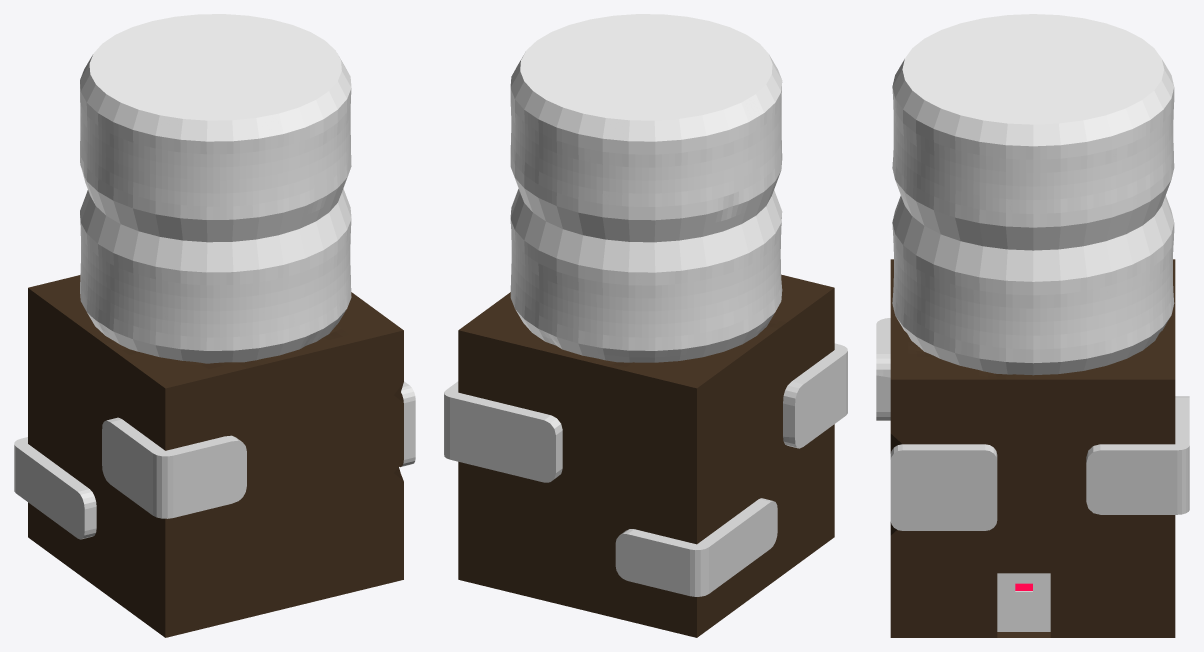
The model's file is Bulding3.fbx.
The picture shows the model from 3 angles, left to right: view 1: azimuth 30°, elevation 25°; view 2: azimuth 150°, elevation 25°; view 3: azimuth 270°, elevation 25°; orthographic projection. The views are drawn at different scales.
Parts seen in each view (by area): view 1: Building 3; view 2: Building 3; view 3: Building 3.
Part boxes in pixels (x1,y1,x2,y2): Building 3: (14,14,415,637); Building 3: (444,14,847,637); Building 3: (876,14,1189,637).
Size of the model in its own units: 1185 by 2121 by 1185.
